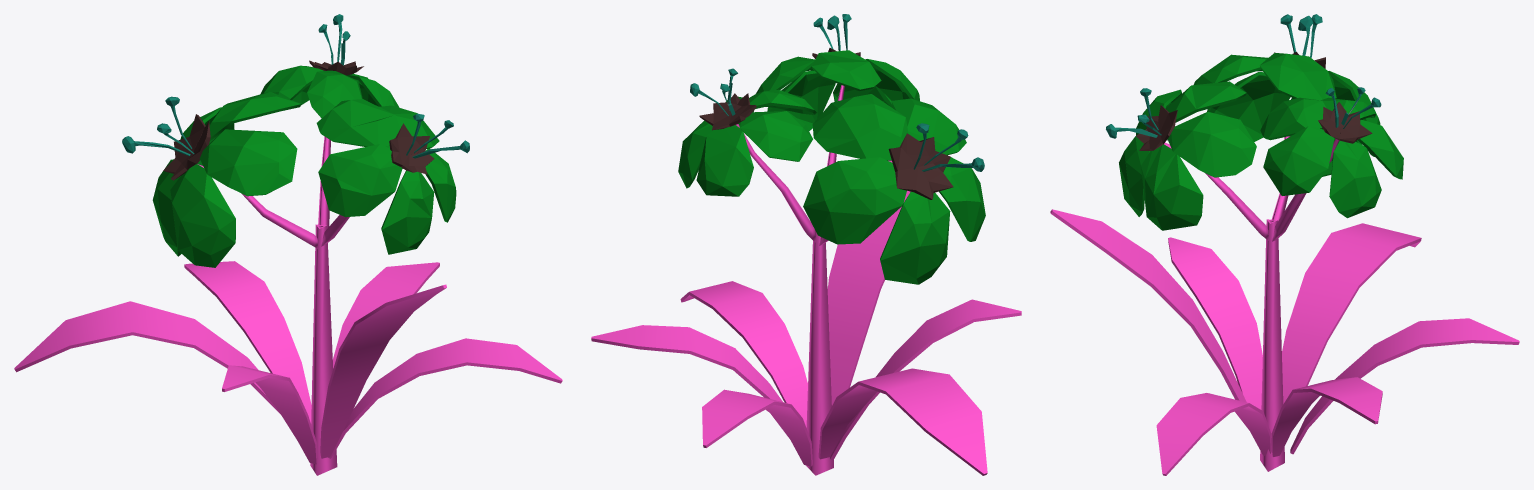
File: ShrubJungleRedSmall03.fbx
3 views of the same model, side by side, from view 1: azimuth 30°, elevation 25°; view 2: azimuth 150°, elevation 25°; view 3: azimuth 270°, elevation 25° (orthographic).
Visible parts, largest first — view 1: ShrubJungleRedSmall03_LOD0; view 2: ShrubJungleRedSmall03_LOD0; view 3: ShrubJungleRedSmall03_LOD0.
Part boxes in pixels (x1=…): ShrubJungleRedSmall03_LOD0: x1=14, y1=14, x2=562, y2=475; ShrubJungleRedSmall03_LOD0: x1=591, y1=14, x2=1021, y2=475; ShrubJungleRedSmall03_LOD0: x1=1050, y1=14, x2=1519, y2=475.
Size of what is drawn, in the model's own units: 94.6 by 85.75 by 90.34.
